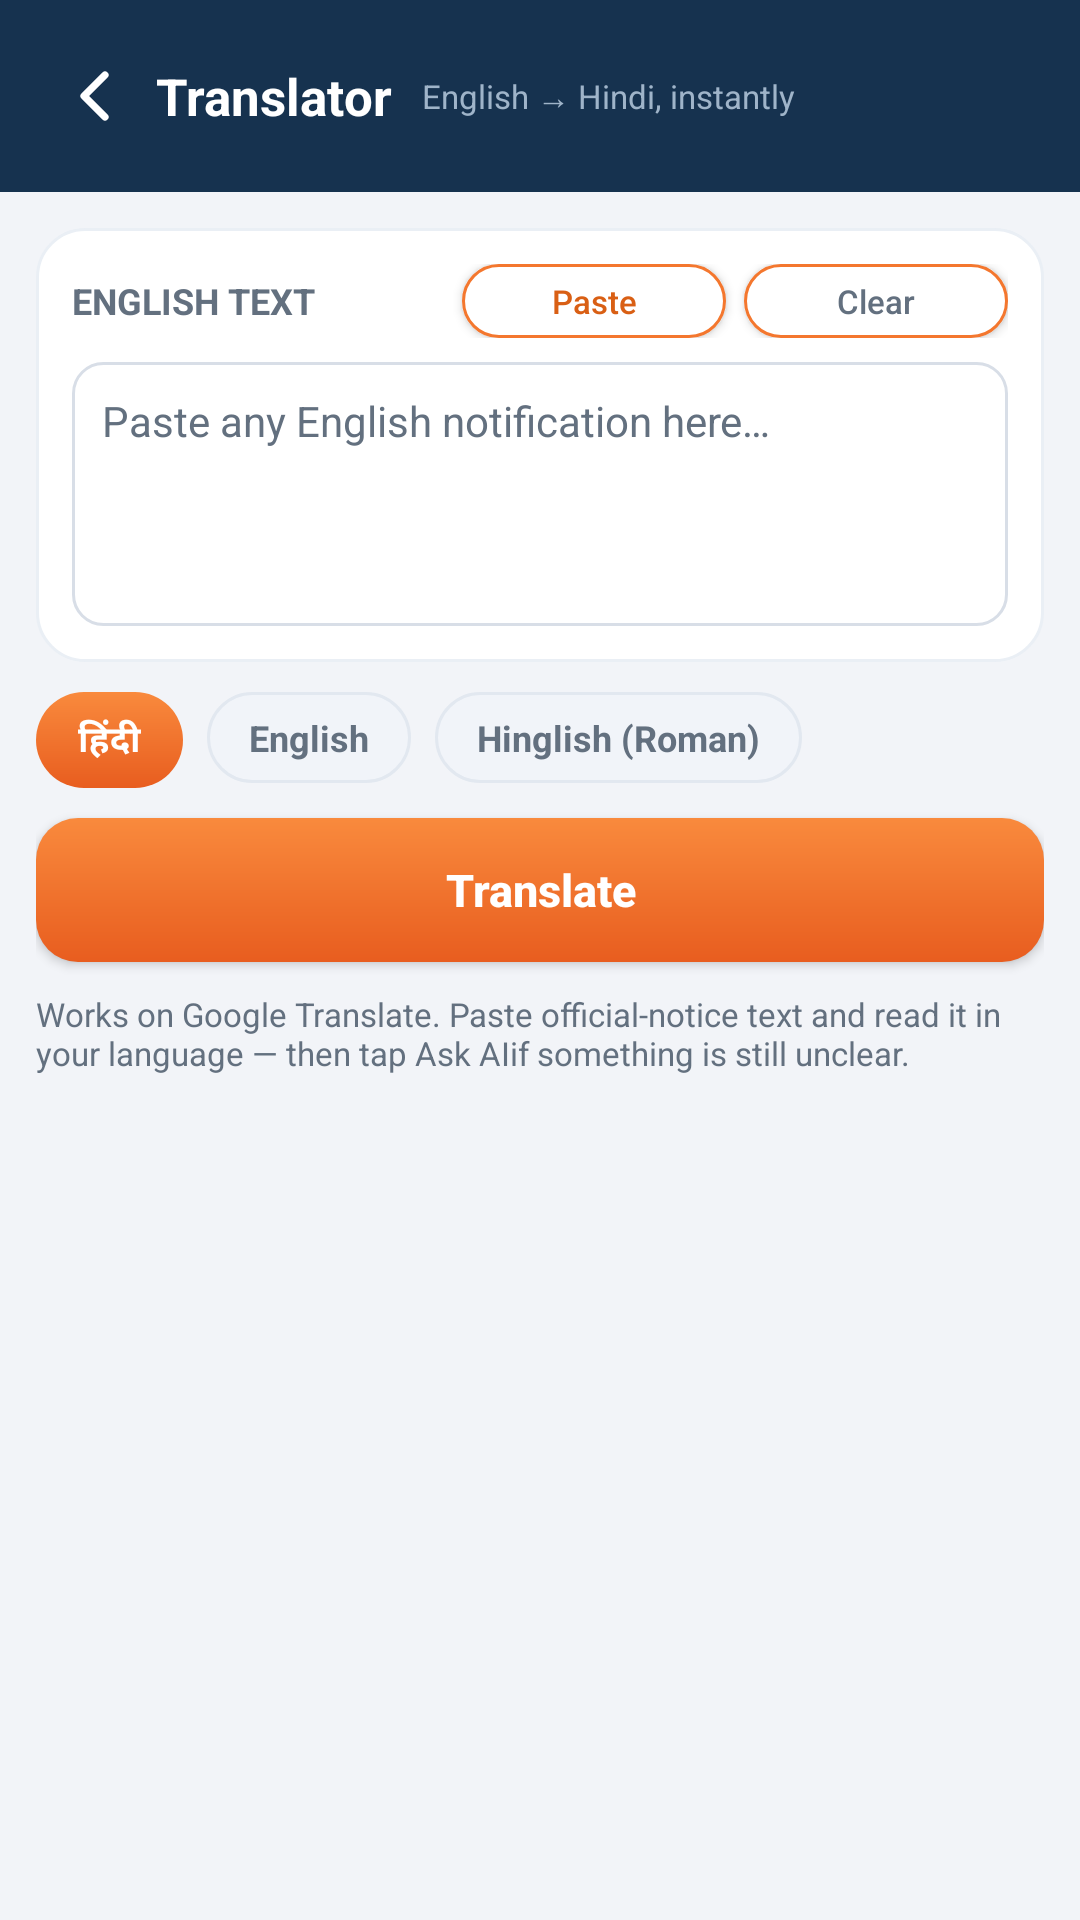

Named icons in this screenshot (1080×1920) and their centers, (x,y):
Back: (94,96)
